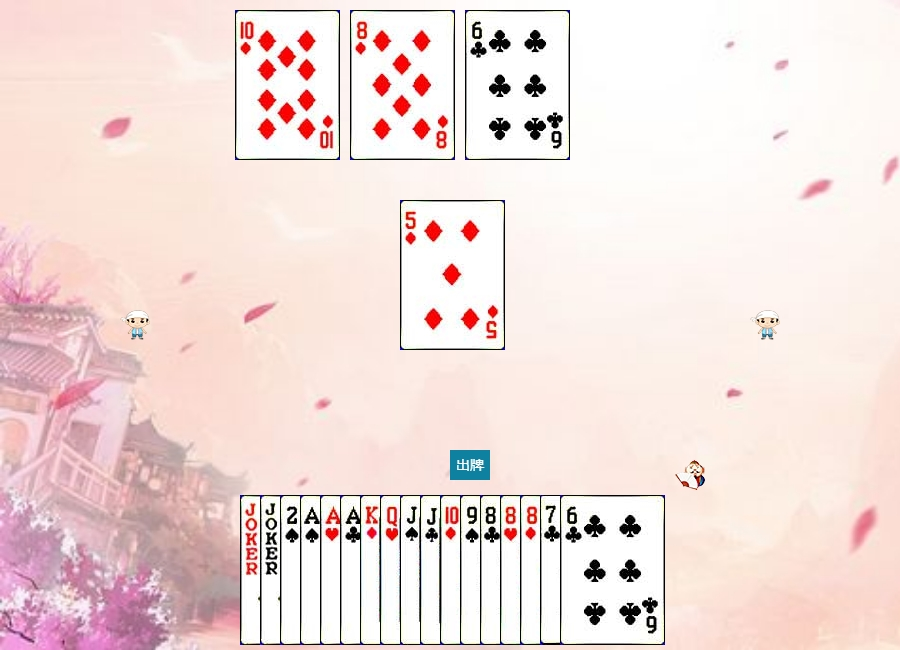10~1: (235, 10, 340, 160), (440, 495, 545, 645)
11~2: (420, 495, 525, 645)
11~4: (400, 495, 505, 645)
12~3: (380, 495, 485, 645)
13~1: (360, 495, 465, 645)
14~2: (340, 495, 445, 645)
14~3: (320, 495, 425, 645)
14~4: (300, 495, 405, 645)
15~4: (280, 495, 385, 645)
17~3: (260, 495, 365, 645)
18~4: (240, 495, 345, 645)
5~1: (400, 200, 505, 350)
6~2: (465, 10, 570, 160), (560, 495, 665, 645)
7~2: (540, 495, 645, 645)
8~1: (350, 10, 455, 160), (520, 495, 625, 645)
8~2: (480, 495, 585, 645)
8~3: (500, 495, 605, 645)
9~4: (460, 495, 565, 645)
